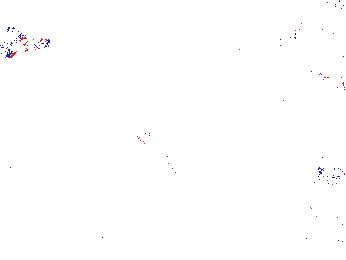glassfish: (133, 126, 193, 200), (120, 203, 178, 229)
redtail glassfish: (1, 25, 53, 52)
